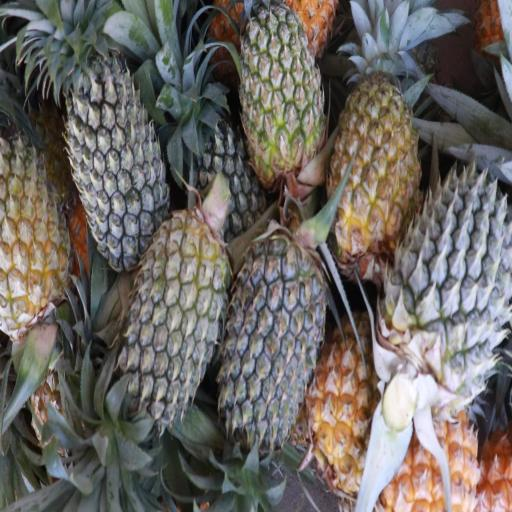------------------------------: (238, 3, 324, 195)
Pineapple - v8 v1: (330, 62, 421, 258), (312, 312, 402, 486), (0, 137, 71, 353), (388, 397, 481, 512)
